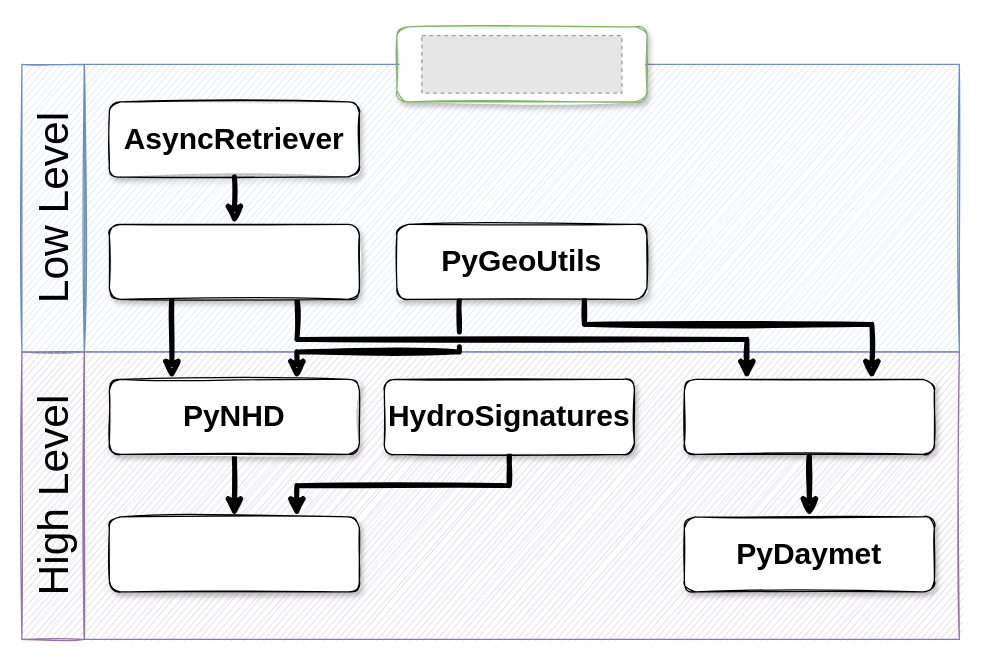
This 981x661 diagram has some shape labels left out. Grey dashed boxes stand in for pictures. Each missing label, with the centre of its shape:
"Py3DEP" goes at (810,418).
"PyGeoHydro" goes at (235,556).
"PyGeoOGC" goes at (235,263).
